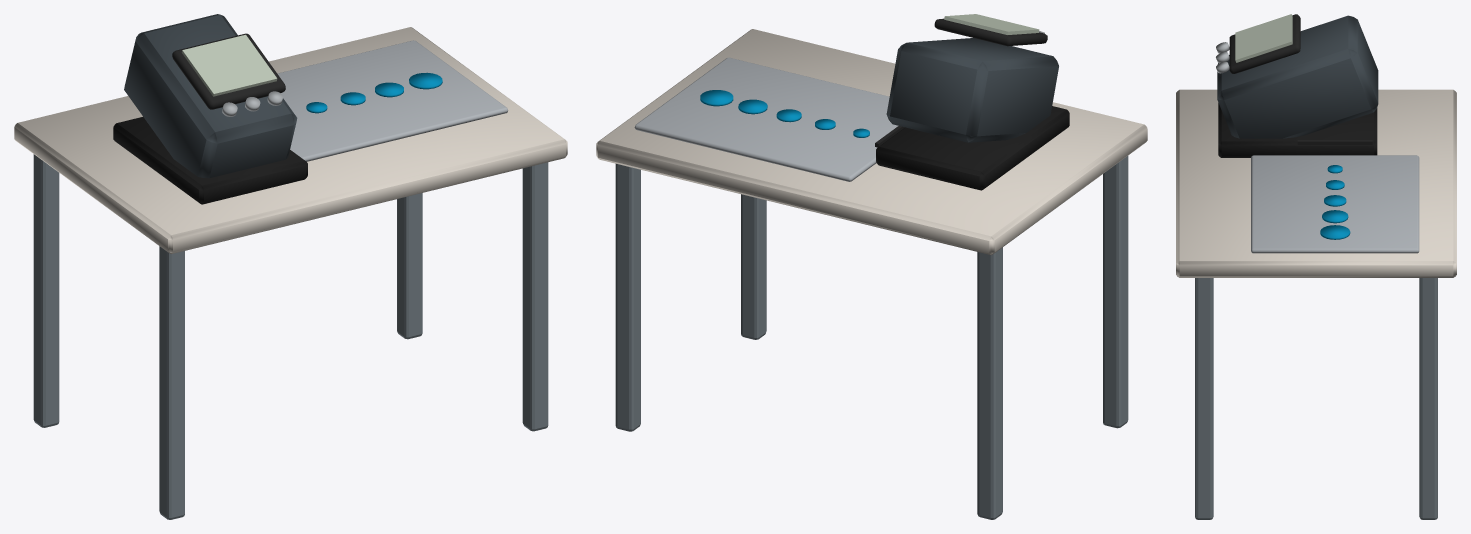
Rendered from m_platereader.glb.
3 renders of one model, left to right at view 1: azimuth 30°, elevation 25°; view 2: azimuth 150°, elevation 25°; view 3: azimuth 270°, elevation 25°, orthographic. The views are drawn at different scales.
Parts seen in each view (by area): view 1: m_platereader; view 2: m_platereader; view 3: m_platereader.
Part boxes in pixels (x1,y1,x2,y2): m_platereader: [14, 14, 567, 519]; m_platereader: [596, 14, 1147, 519]; m_platereader: [1176, 14, 1456, 519].
Bounding box in the file's own units: 0.44 × 0.4374 × 0.3.
